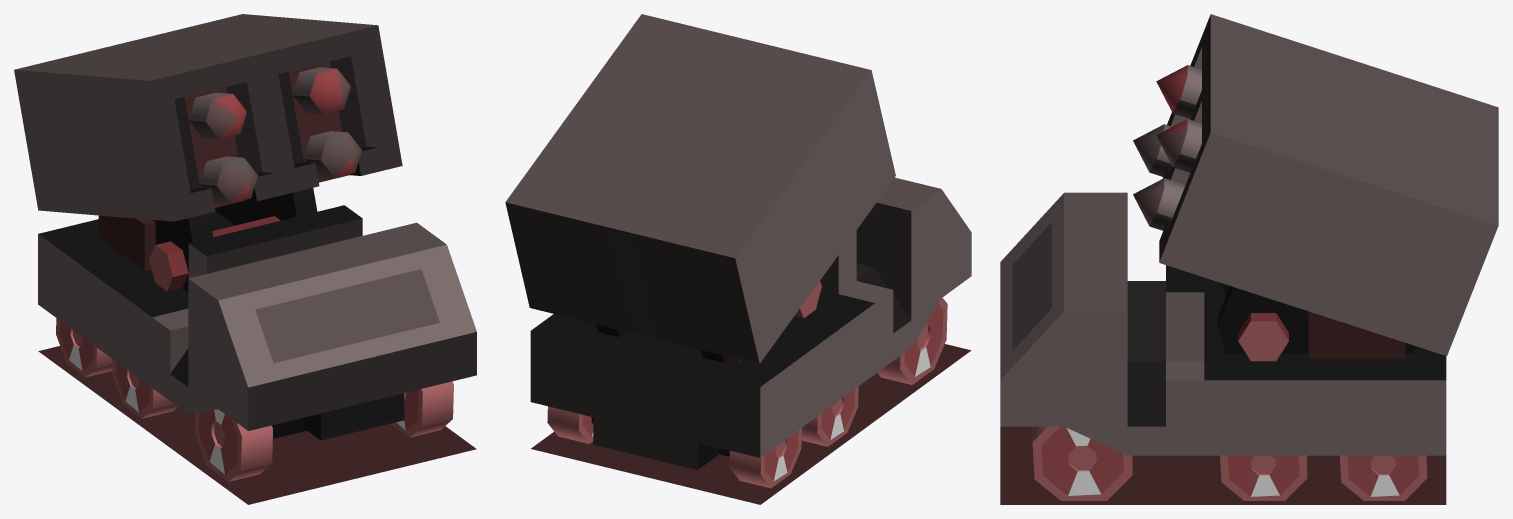
Rendered from RocketMesh.NoireEclipse.glb.
3 renders of one model, left to right at view 1: azimuth 30°, elevation 25°; view 2: azimuth 150°, elevation 25°; view 3: azimuth 270°, elevation 25°, orthographic. The views are drawn at different scales.
Parts seen in each view (by area): view 1: RocketMesh.NoireEclipse; view 2: RocketMesh.NoireEclipse; view 3: RocketMesh.NoireEclipse.
Boxes of the visible parts, x1,y1,x2,y2 form: RocketMesh.NoireEclipse: (14,14,476,504); RocketMesh.NoireEclipse: (505,14,971,504); RocketMesh.NoireEclipse: (1000,14,1498,504).
Size of the model in its own units: 1.1 by 1.63 by 1.96.
Materials: 1 (1 with a texture image).
